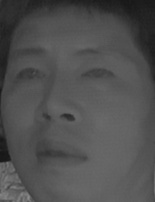eye: (77, 63, 117, 85), (11, 63, 45, 88)
mouth: (31, 137, 89, 175)
